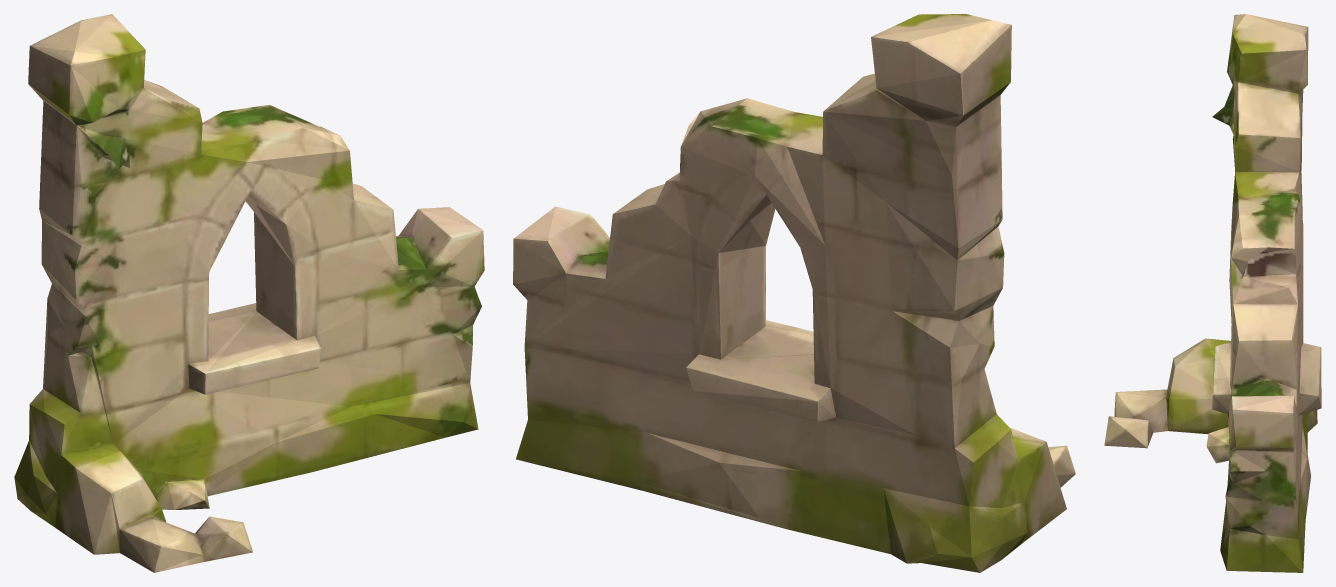
File: ruin-wall.glb
3 renders of one model, left to right at view 1: azimuth 30°, elevation 25°; view 2: azimuth 150°, elevation 25°; view 3: azimuth 270°, elevation 25°, orthographic. The views are drawn at different scales.
Parts seen in each view (by area): view 1: ruin-wall; view 2: ruin-wall; view 3: ruin-wall.
Boxes of the visible parts, x1,y1,x2,y2 form: ruin-wall: (14,14,484,572); ruin-wall: (513,14,1075,572); ruin-wall: (1104,14,1321,572).
Bounding box in the file's own units: 5.04 × 5.25 × 2.58.
Materials: 1 (1 with a texture image).
